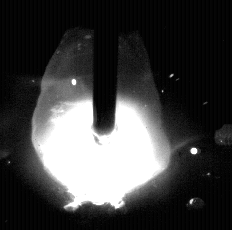arame: (93, 0, 118, 135)
poca: (31, 0, 168, 230)
